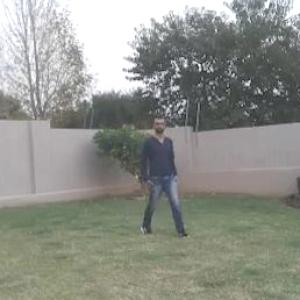follow: (142, 108, 177, 228)
